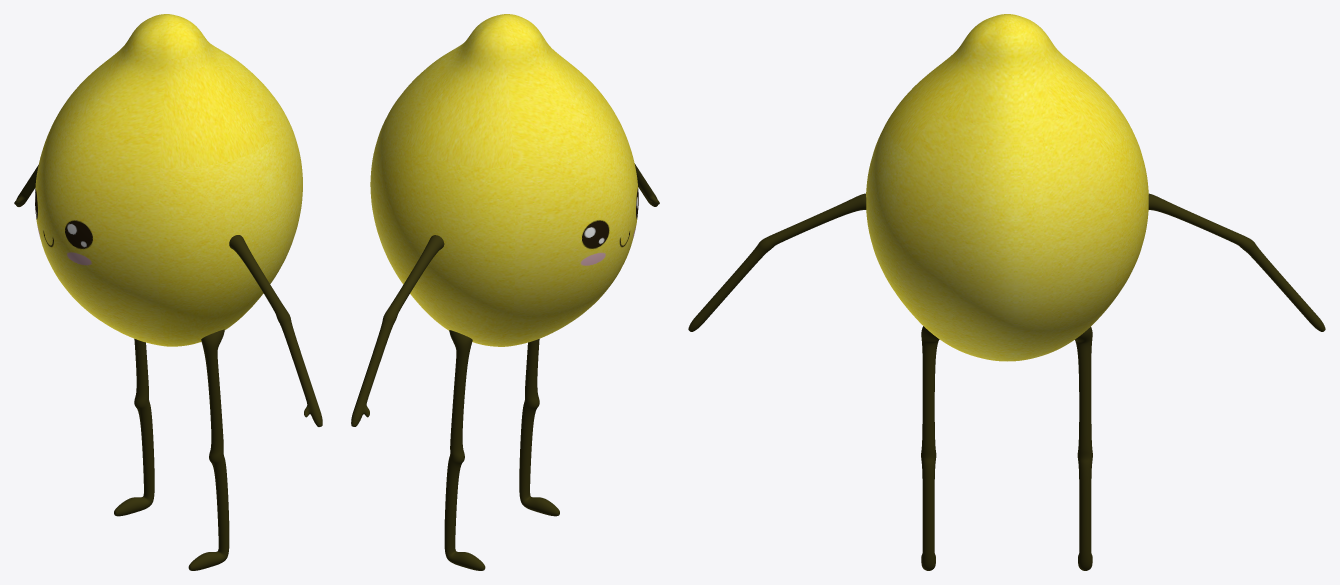
Rendered from Lionel_Lemon.dae.
3 renders of one model, left to right at view 1: azimuth 30°, elevation 25°; view 2: azimuth 150°, elevation 25°; view 3: azimuth 270°, elevation 25°, orthographic. The views are drawn at different scales.
Parts seen in each view (by area): view 1: Lemon; view 2: Lemon; view 3: Lemon.
Boxes of the visible parts, left/top/right/bottom form: Lemon: left=14, top=14, right=322, bottom=570; Lemon: left=351, top=14, right=659, bottom=570; Lemon: left=688, top=14, right=1325, bottom=570.
Bounding box in the file's own units: 1.32 × 2.71 × 2.84.
1 material, 1 textured.
